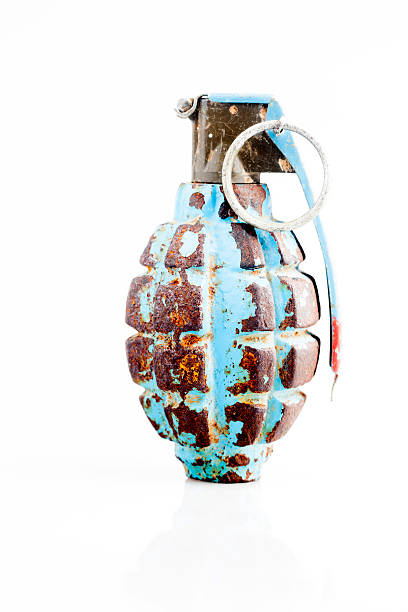e1: (126, 92, 342, 482)
